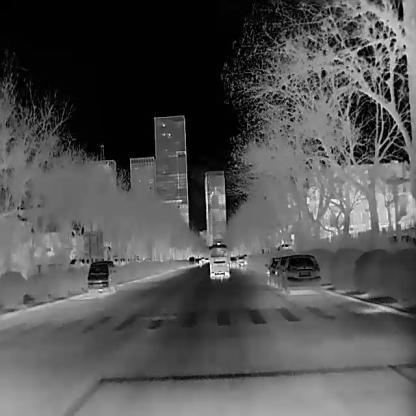car: (276, 254, 320, 294), (86, 260, 116, 292), (207, 241, 229, 279), (272, 254, 289, 286), (264, 256, 276, 284), (228, 255, 237, 267), (187, 255, 195, 266)
